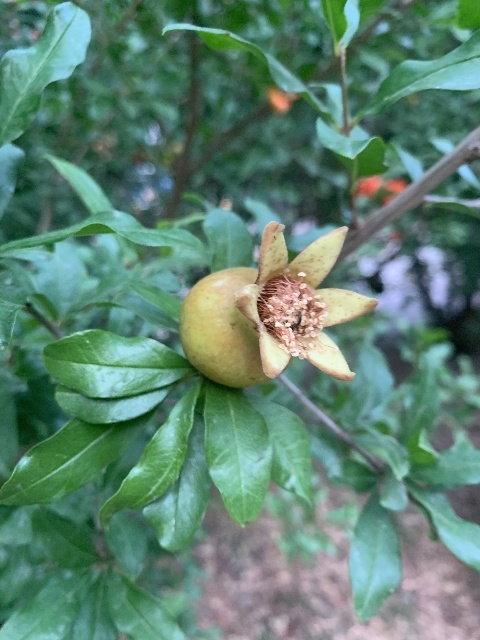early-fruit: (179, 220, 379, 386)
